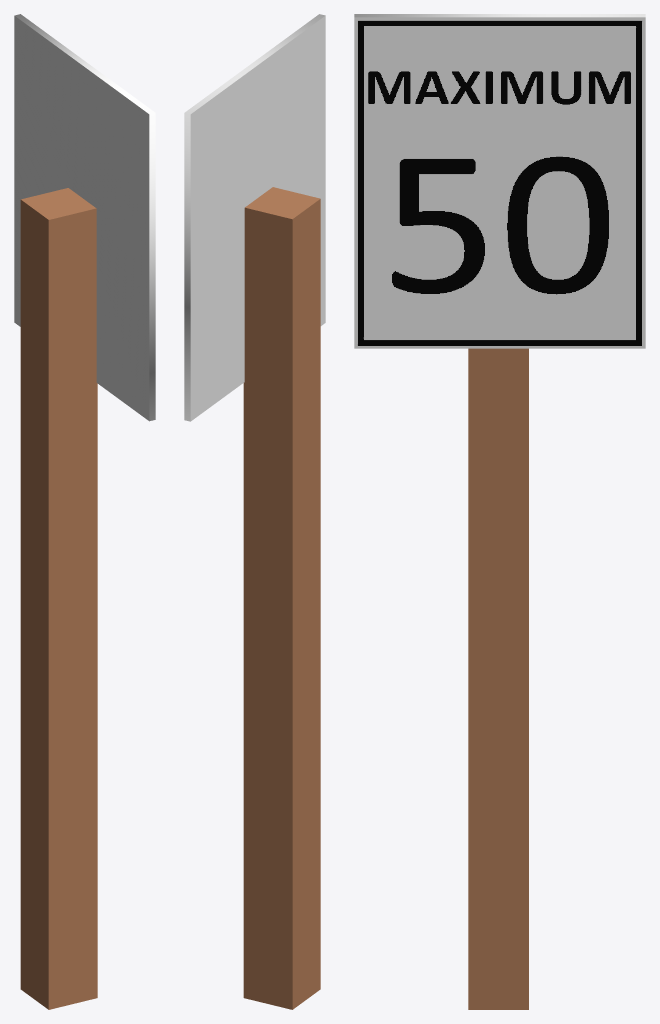
Rendered from sign12.fbx.
3 renders of one model, left to right at view 1: azimuth 30°, elevation 25°; view 2: azimuth 150°, elevation 25°; view 3: azimuth 270°, elevation 25°, orthographic. The views are drawn at different scales.
Visible parts, largest first — view 1: Cylinder.001_Cylinder.000; view 2: Cylinder.001_Cylinder.000; view 3: Cylinder.001_Cylinder.000.
Boxes of the visible parts, x1,y1,x2,y2 form: Cylinder.001_Cylinder.000: [14, 14, 155, 1009]; Cylinder.001_Cylinder.000: [184, 14, 325, 1009]; Cylinder.001_Cylinder.000: [354, 14, 645, 1009].
Bounding box in the file's own units: 17.29 × 282 × 74.77.
